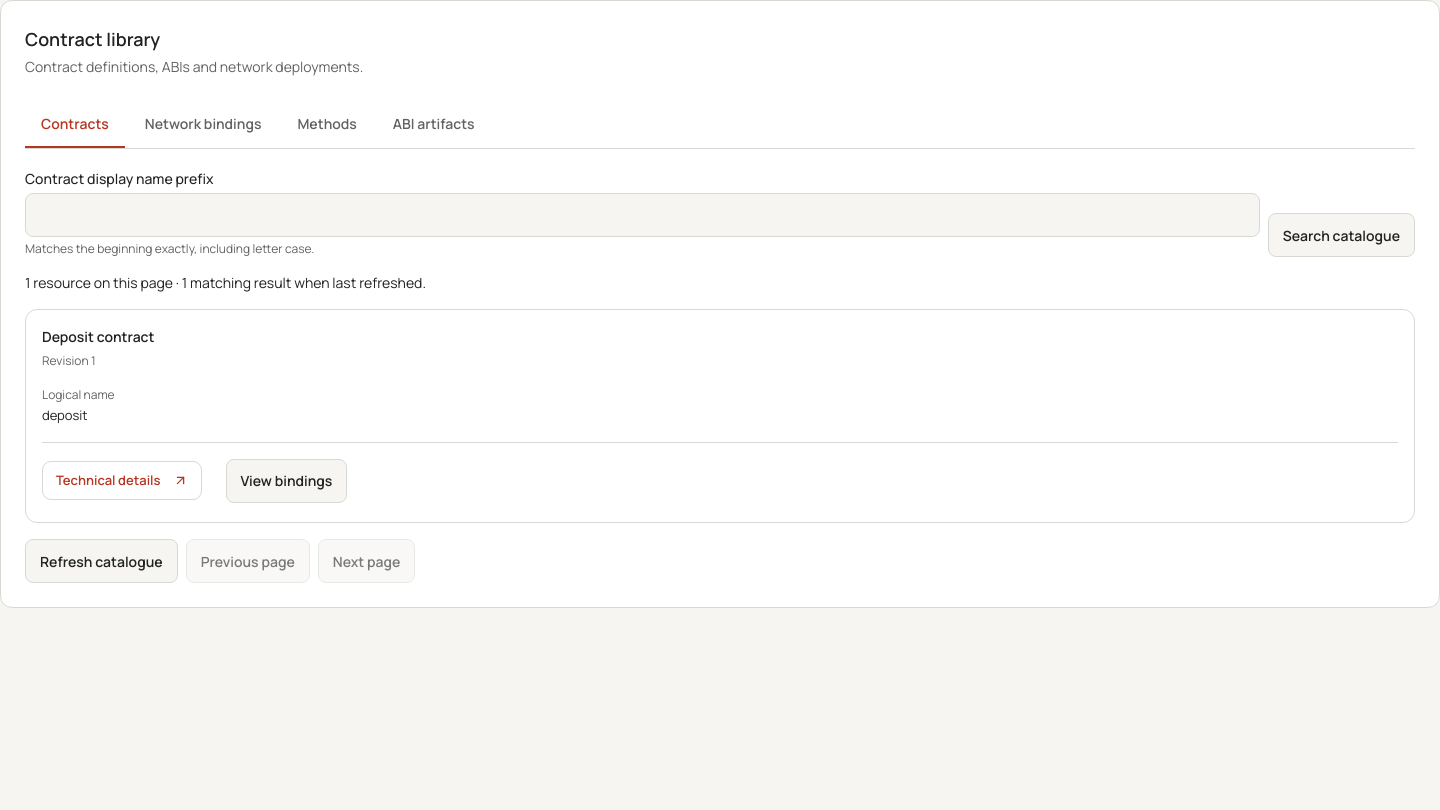
Test: browses contract → binding → method and selects a method without a mutation
This screenshot has width=1440, height=810.
Later steps or results of the test are not shown.
Click the button with aria-label "View bindings for Deposit contract" at coordinates (286, 481), box [226, 459, 347, 503]
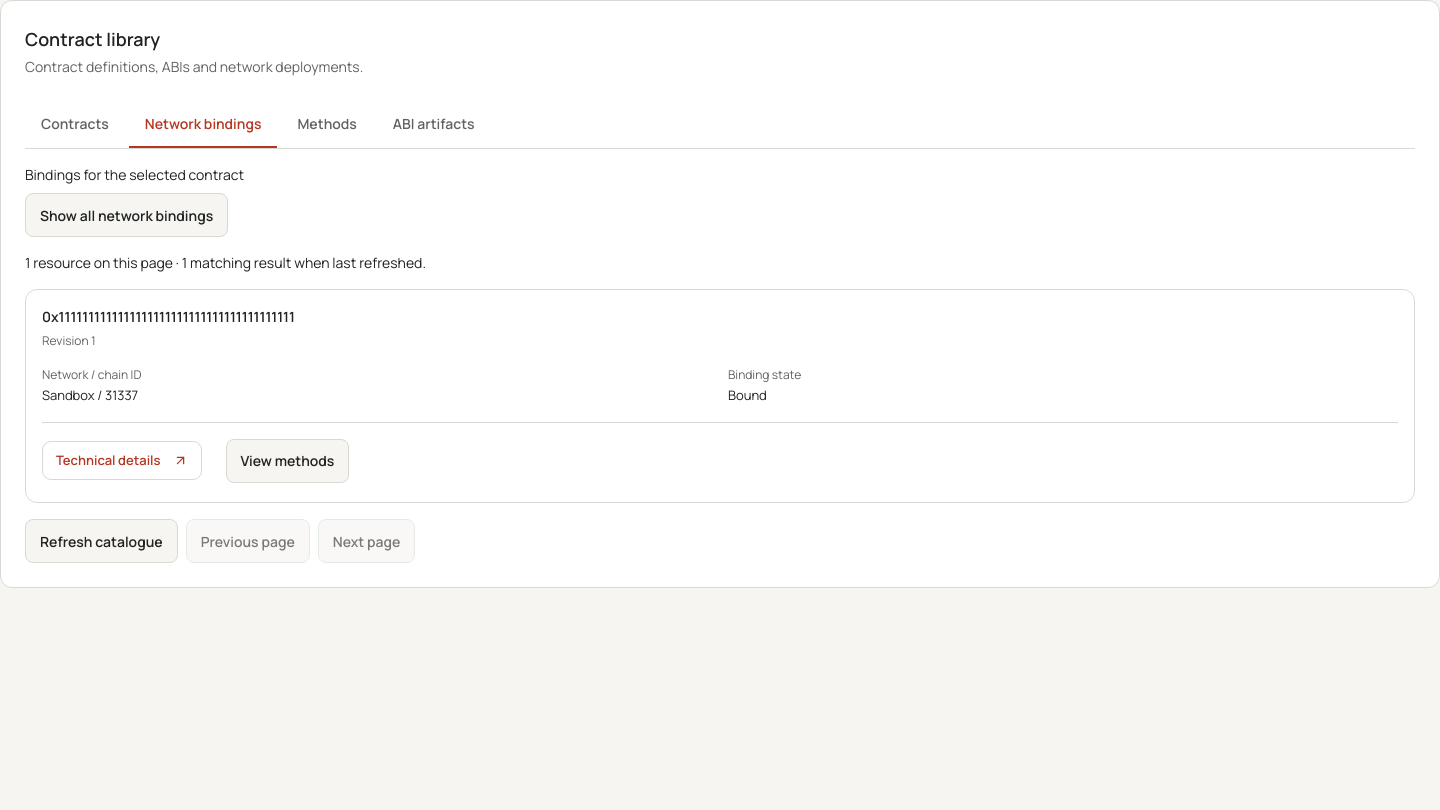
Click the button "View methods" at coordinates (287, 461), box [226, 439, 349, 483]
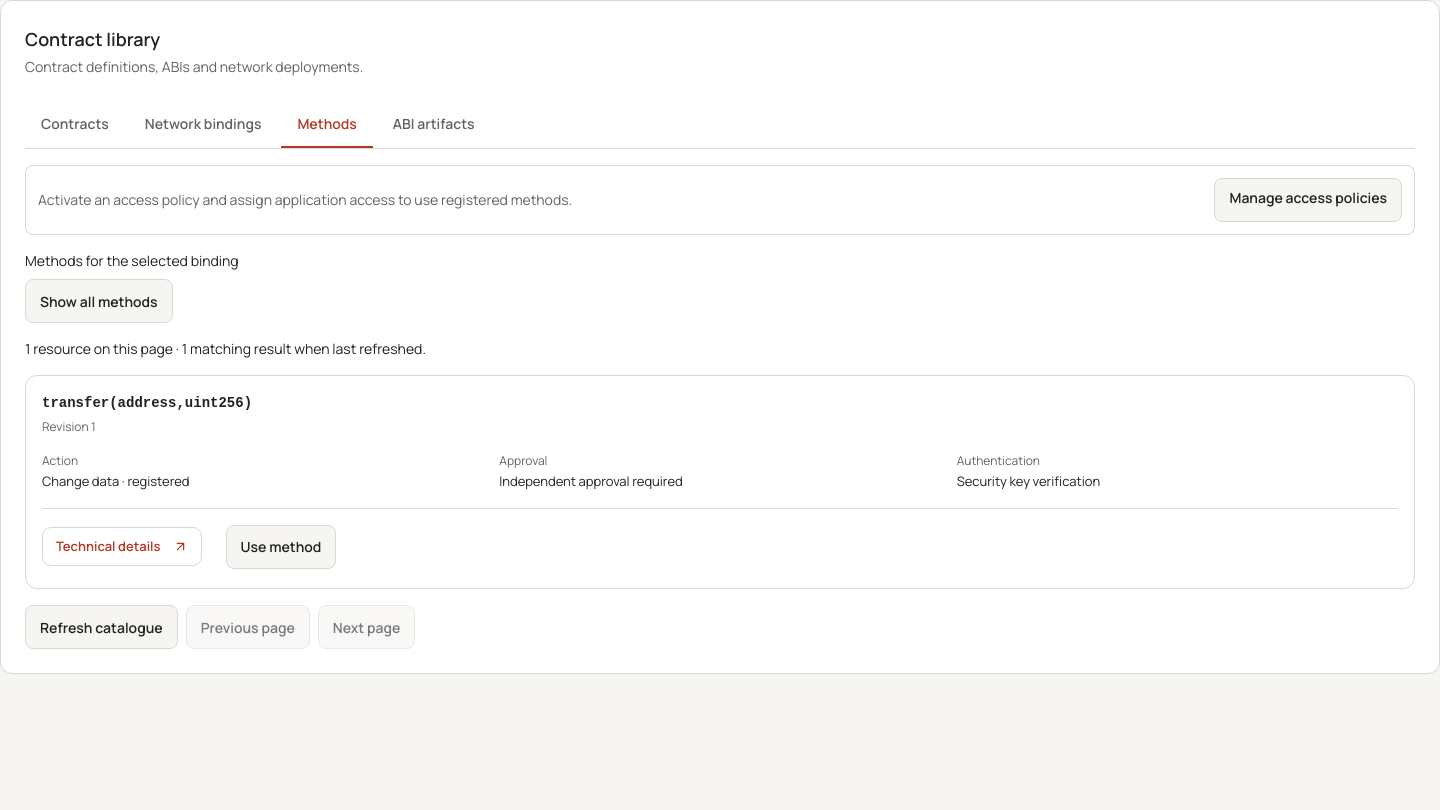
Expected: the text "Independent approval required" is shown, [499, 472, 683, 490]
Expected: the text "Security key verification" is shown, [957, 472, 1100, 490]
